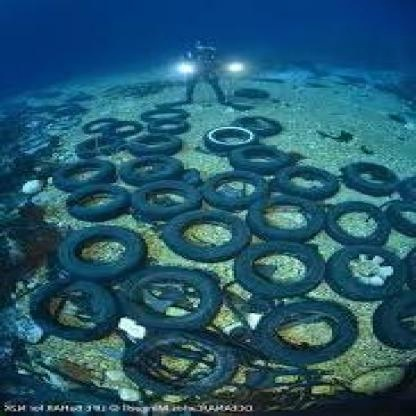tire: (109, 327, 250, 405), (241, 236, 352, 321), (257, 297, 373, 378), (123, 259, 234, 337), (172, 202, 280, 282), (36, 271, 136, 343), (55, 221, 159, 281), (184, 166, 275, 212), (198, 110, 275, 158), (227, 139, 300, 188), (70, 181, 136, 224)
